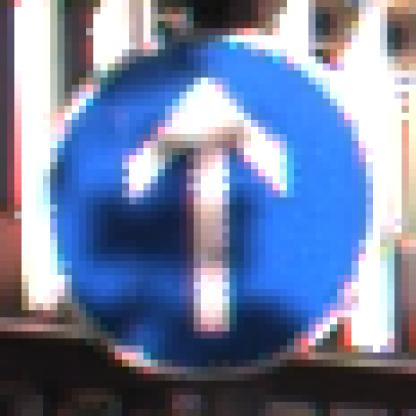AheadOnly: (44, 36, 381, 382)
